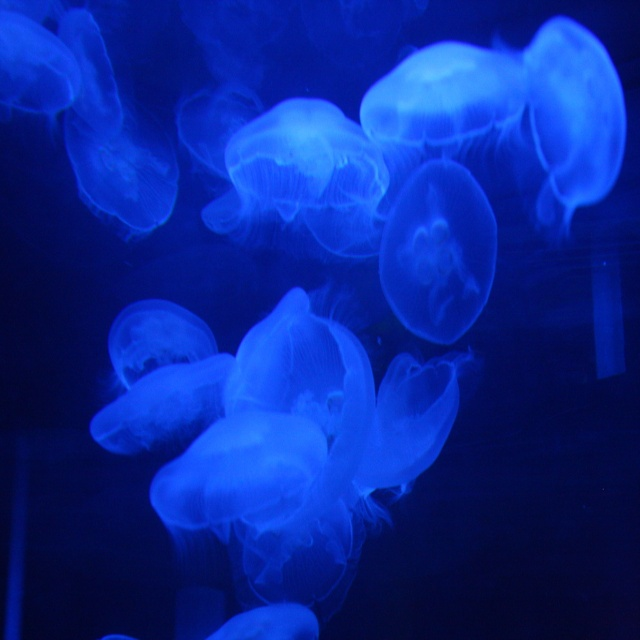Jellyfish: (0, 0, 626, 640)
